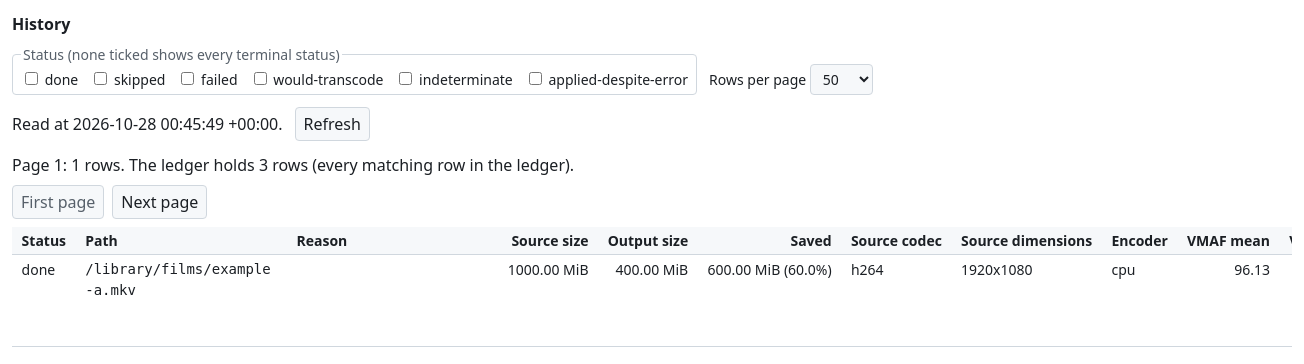
Test: history view › history view: after a refused page, offers the way back to the first page
The width and height of the screenshot is (1304, 364).
Expected: the text "Read at 2026-10-28 00:45:49 +00:00." is shown, [12,112,282,136]
Click the button "Next page".
click(160, 202)  # box [112,185,207,219]
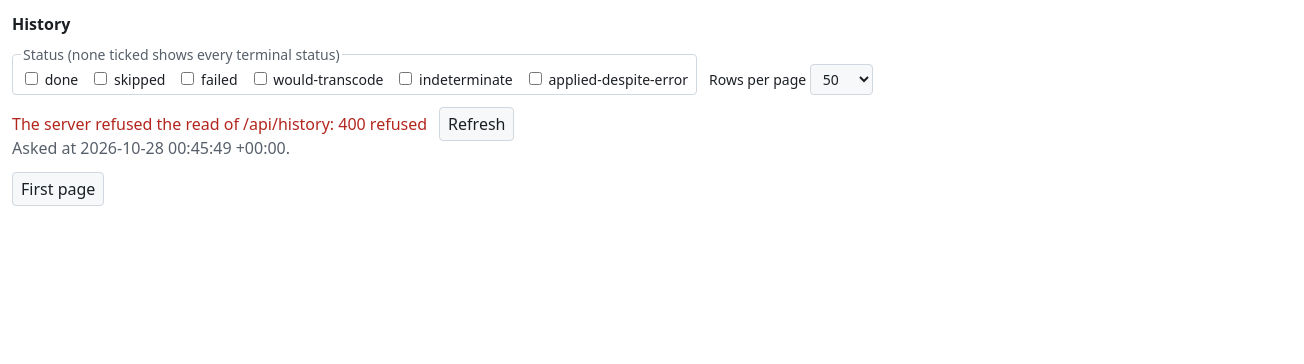
Now the message is shown, box [12,112,427,160]
Now the table is gone
Click the button "First page".
click(58, 189)  # box [12,172,104,206]
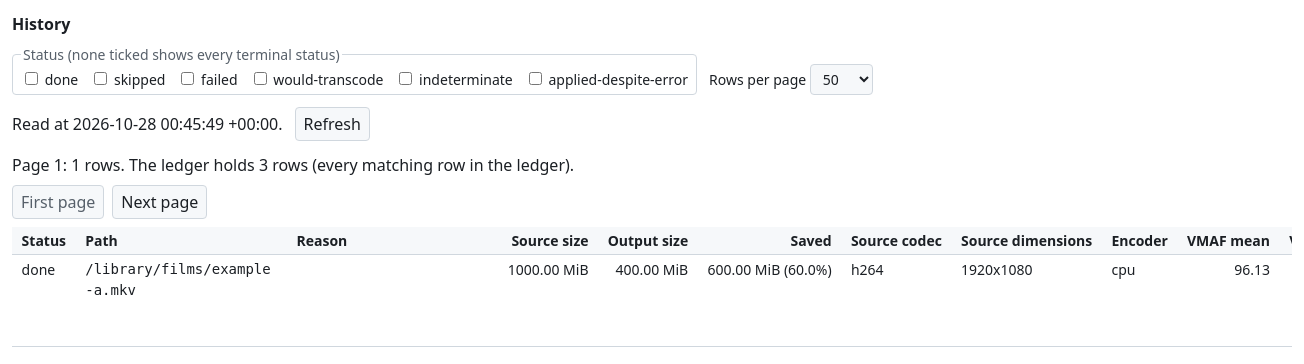
Now the text "Page 1: 1 rows." is shown, box [12,154,129,176]
